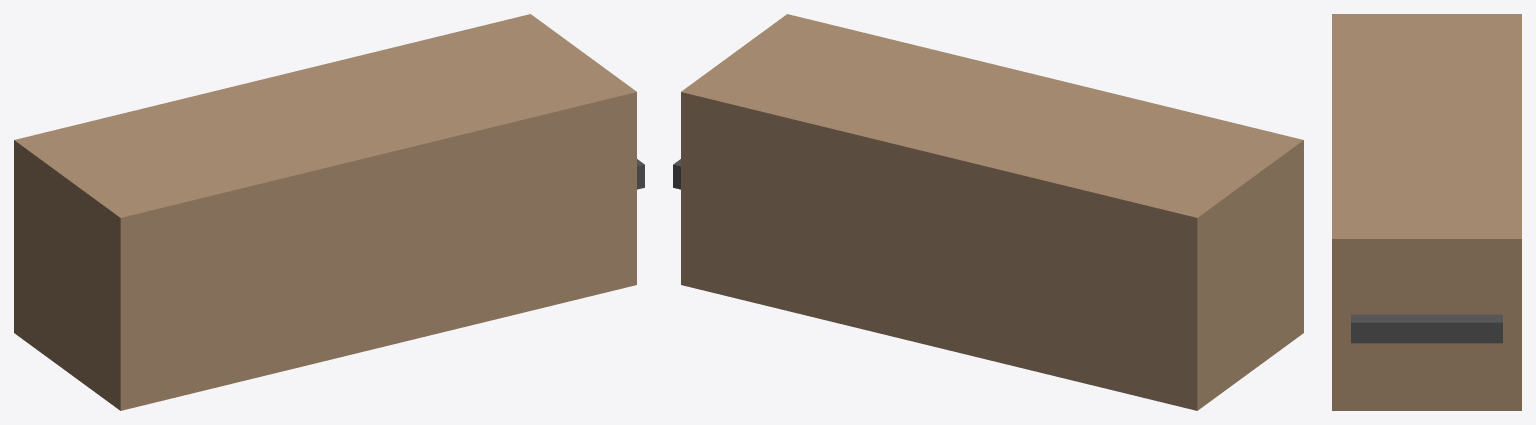
Rendered from checkout_counter.glb.
3 renders of one model, left to right at view 1: azimuth 30°, elevation 25°; view 2: azimuth 150°, elevation 25°; view 3: azimuth 270°, elevation 25°, orthographic. The views are drawn at different scales.
Visible parts, largest first — view 1: counter; view 2: counter; view 3: counter, belt.
Boxes of the visible parts, x1,y1,x2,y2 form: counter: (14,14,636,410); counter: (681,14,1303,410); counter: (1332,14,1521,410); belt: (1351,314,1502,343).
Size of the model in its own units: 2.9 by 1 by 1.
